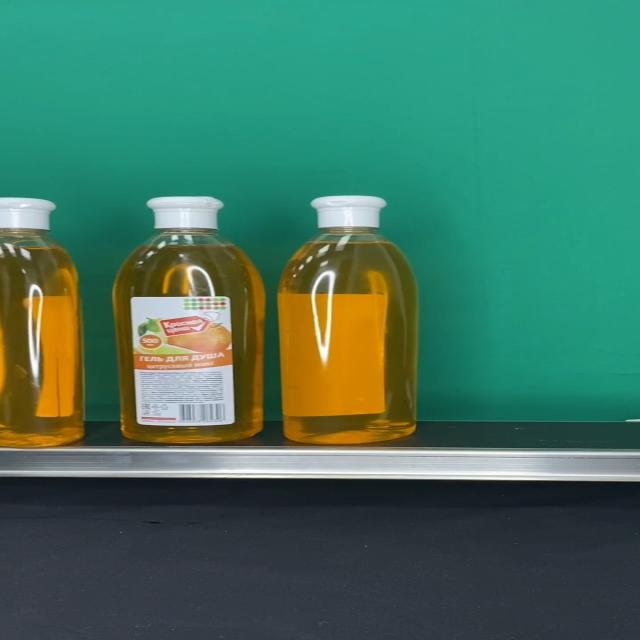Bottle: (111, 196, 265, 444), (277, 196, 418, 445)
Cap: (310, 196, 388, 230), (146, 197, 226, 230)
